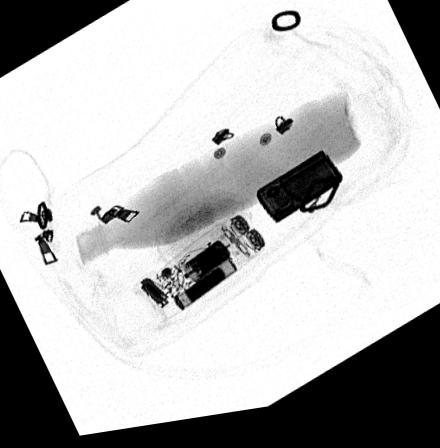Lighter: (253, 157, 344, 233)
